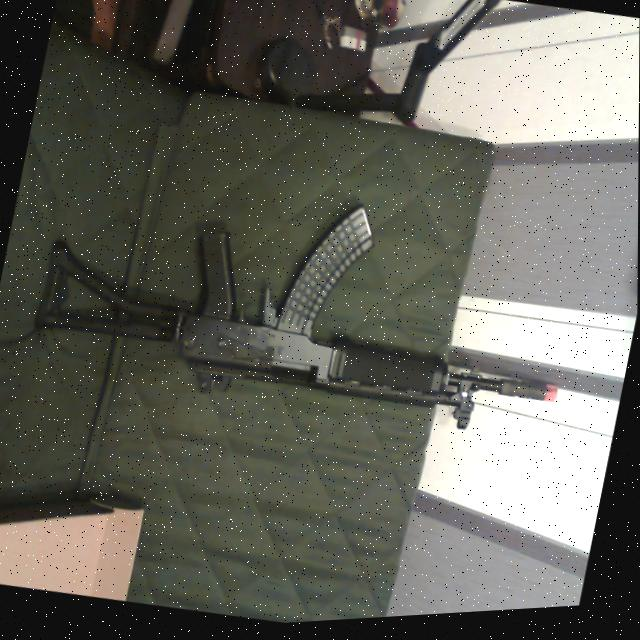firearm: (22, 138, 592, 475)
